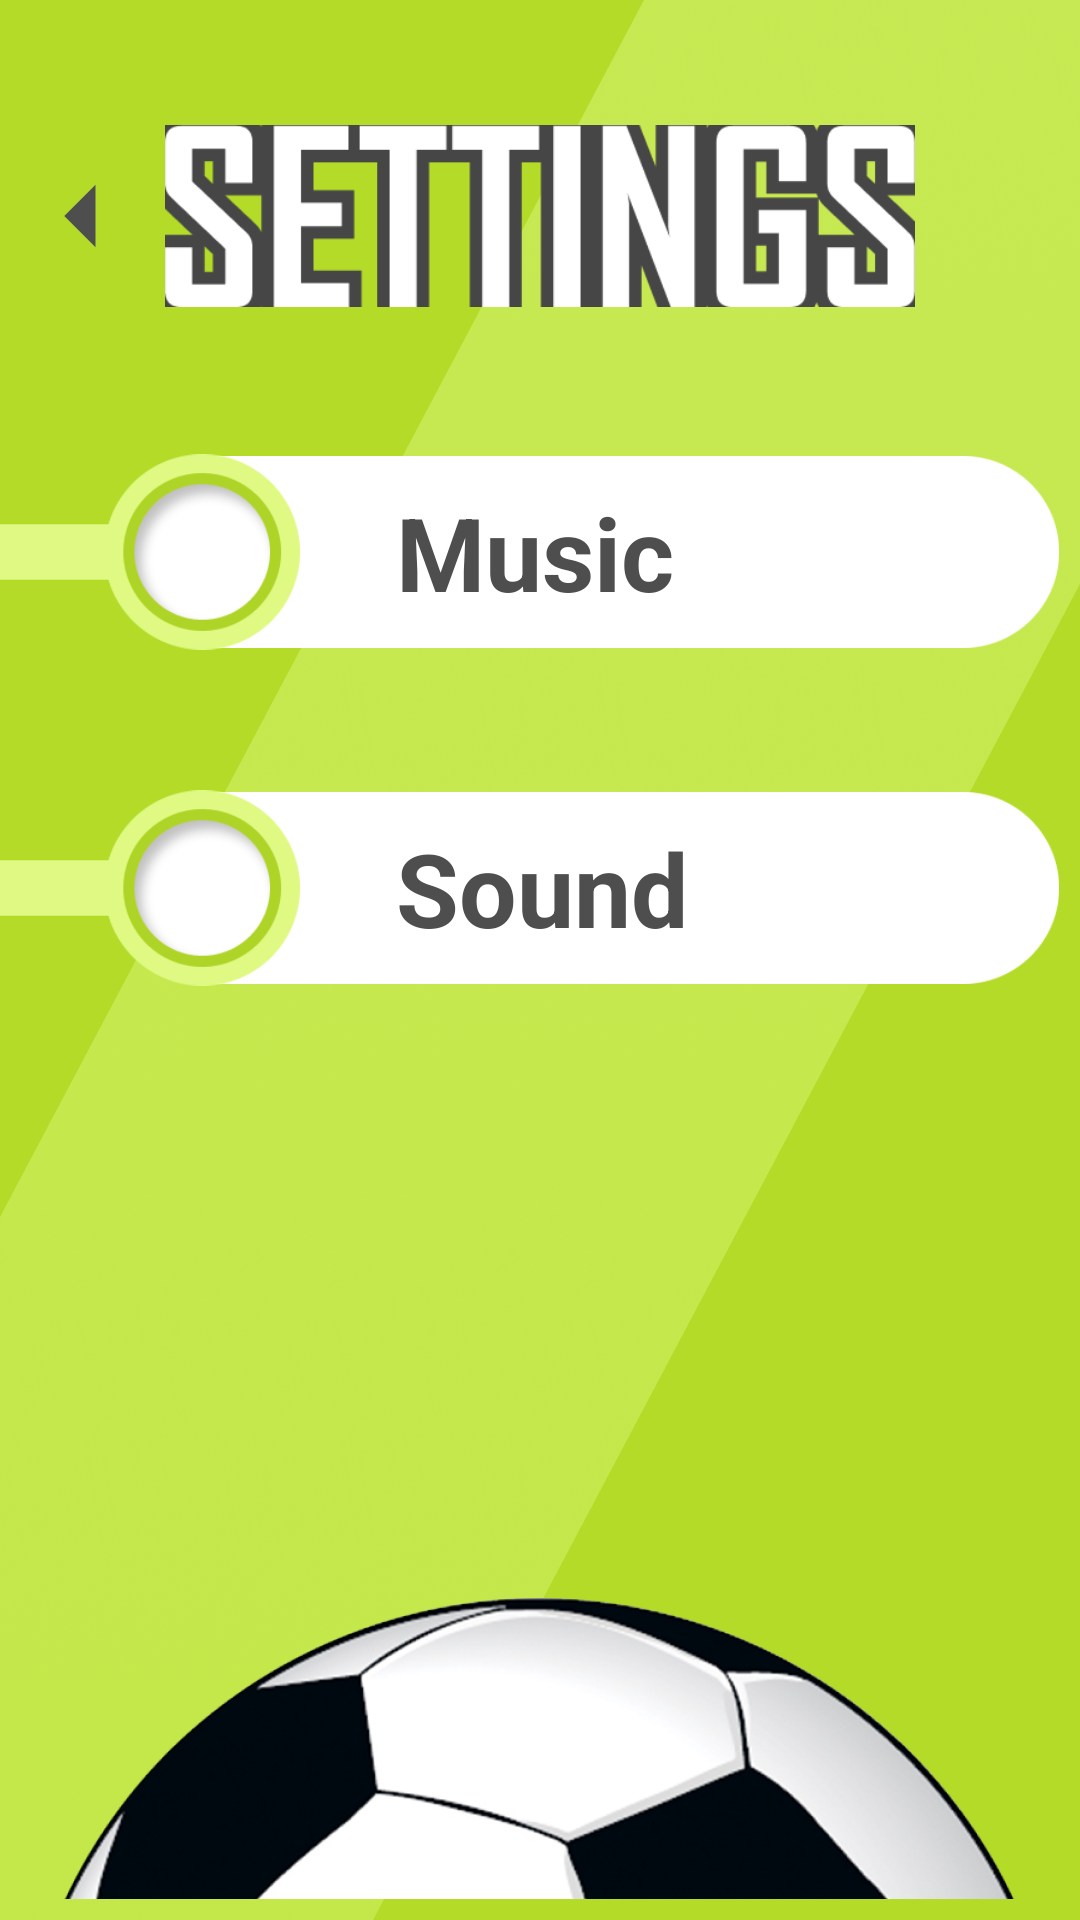

Named icons in this screenshot (1080 × 1920) and their centers, (x,y):
arrow left: (80,216)
